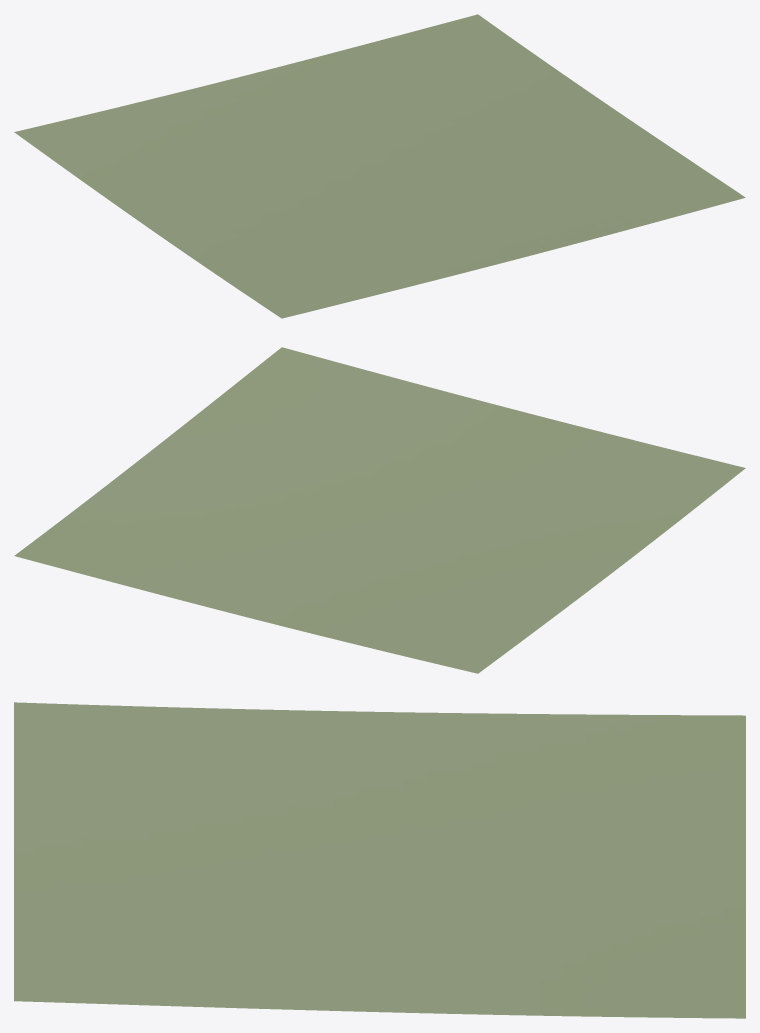
The model's file is expanse-0-20.glb.
The picture shows the model from 3 angles, top to bottom: view 1: azimuth 30°, elevation 25°; view 2: azimuth 150°, elevation 25°; view 3: azimuth 270°, elevation 25°; orthographic projection. The views are drawn at different scales.
Parts seen in each view (by area): view 1: expanse-0-20; view 2: expanse-0-20; view 3: expanse-0-20.
Part boxes in pixels (x1,y1,x2,y2): expanse-0-20: (14, 14, 745, 318); expanse-0-20: (14, 347, 745, 673); expanse-0-20: (14, 702, 745, 1018).
Size of the model in its own units: 256 by 9.42 by 256.
